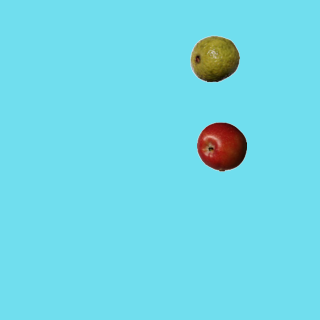Apple Braeburn: (196, 121, 246, 171)
Guava: (189, 33, 239, 83)
